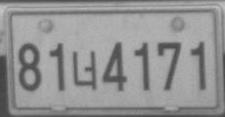1: (187, 40, 213, 90), (131, 41, 156, 91), (46, 42, 70, 91)
4: (101, 40, 128, 91)
7: (156, 40, 181, 90)
8: (17, 41, 42, 92)
너: (72, 50, 97, 91)
